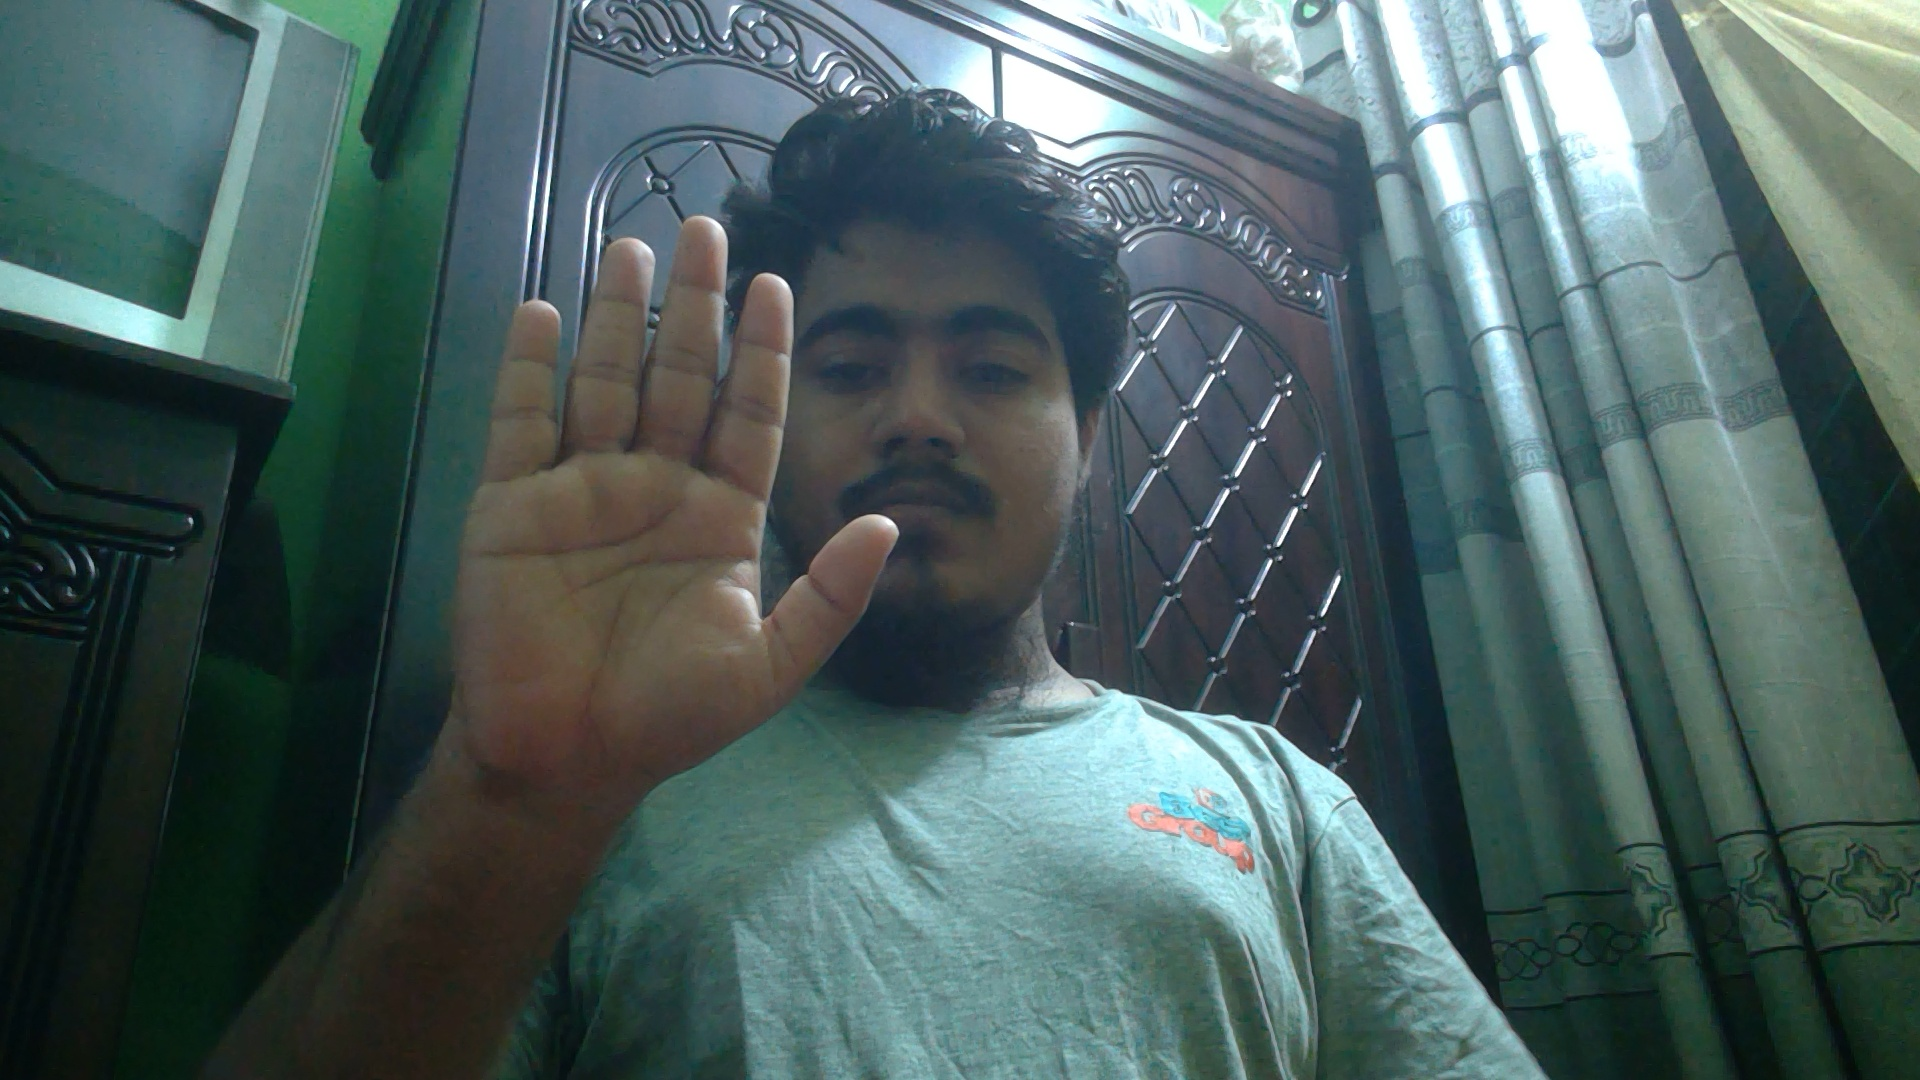Hello: (439, 199, 903, 793)
